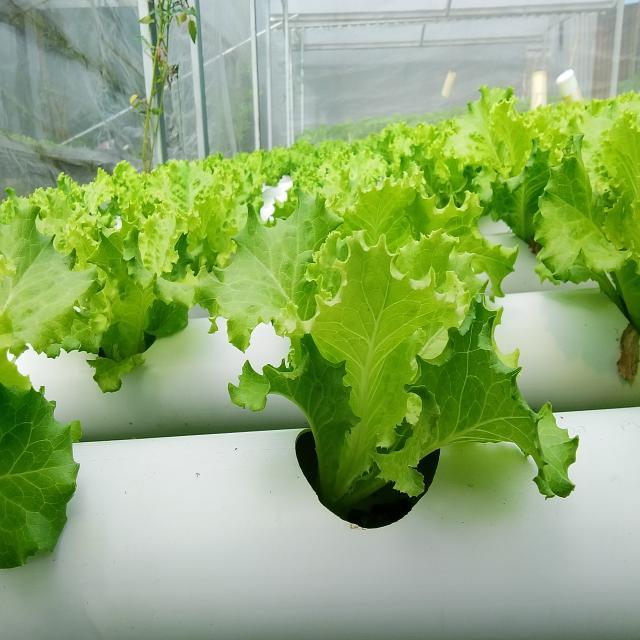Baby: (228, 224, 578, 519), (218, 201, 312, 319)
